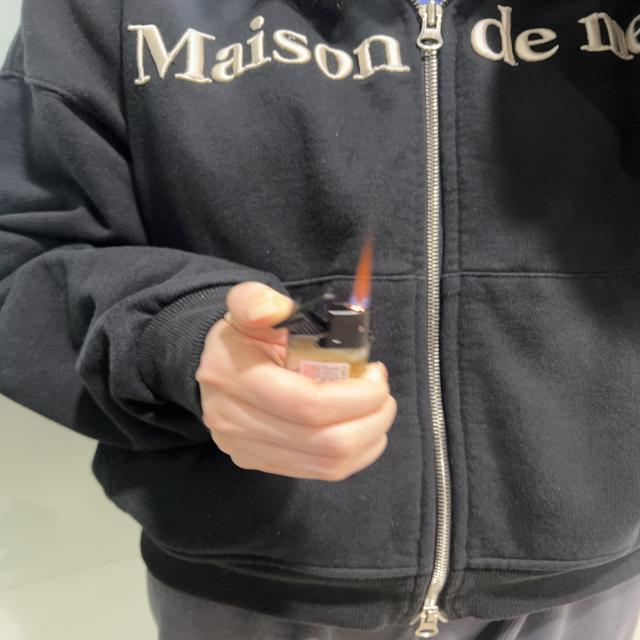fire: (344, 234, 374, 308)
